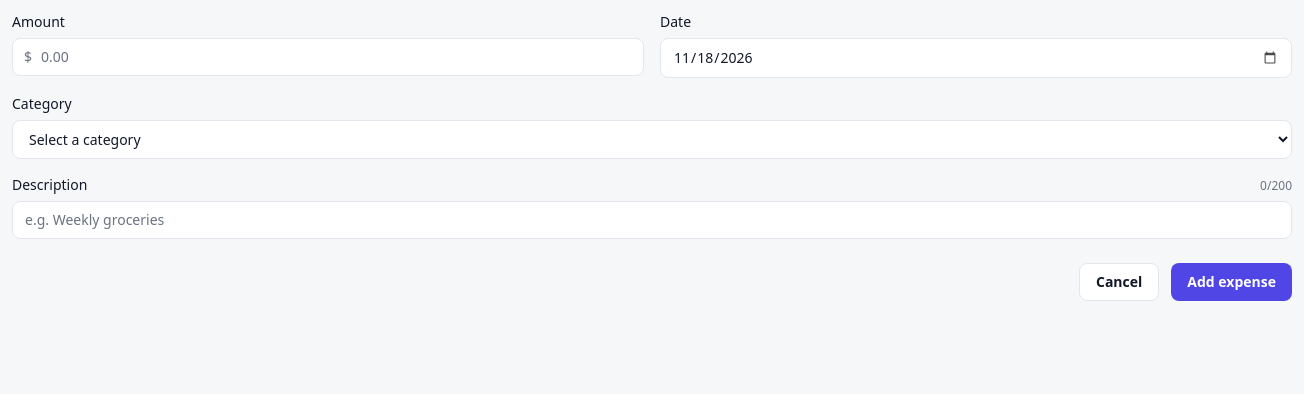
ExpenseForm › shows inline errors and does not submit invalid input
Click the button "Add expense" at [1232, 282], box [1171,263,1292,301]
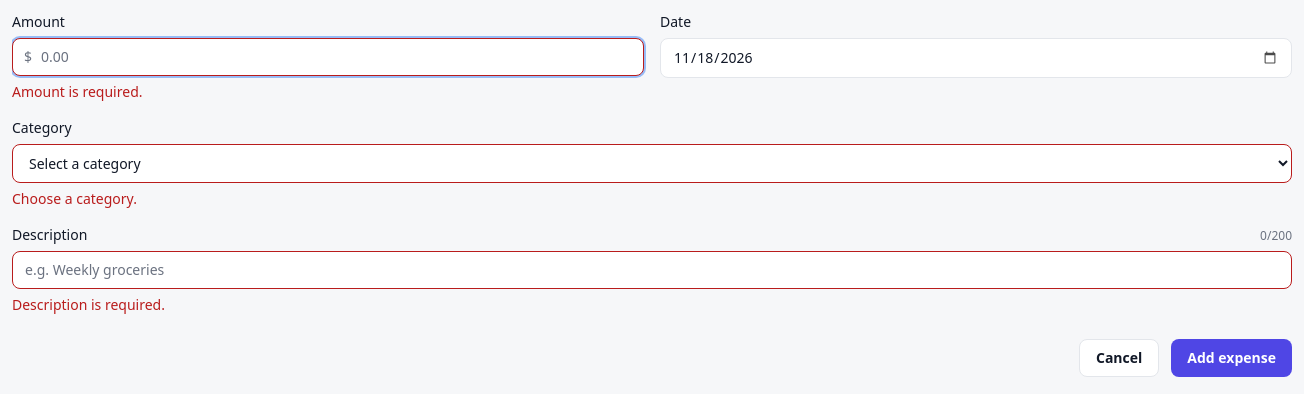
Now the text "Amount is required." is shown, box [12,82,142,101]
Now the text "Choose a category." is shown, box [12,189,137,208]
Now the text "Description is required." is shown, box [12,295,165,314]
